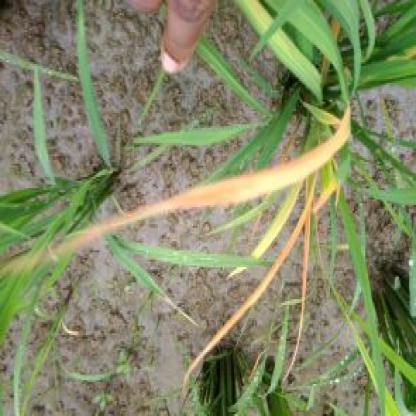Tungro: (64, 128, 349, 239)
